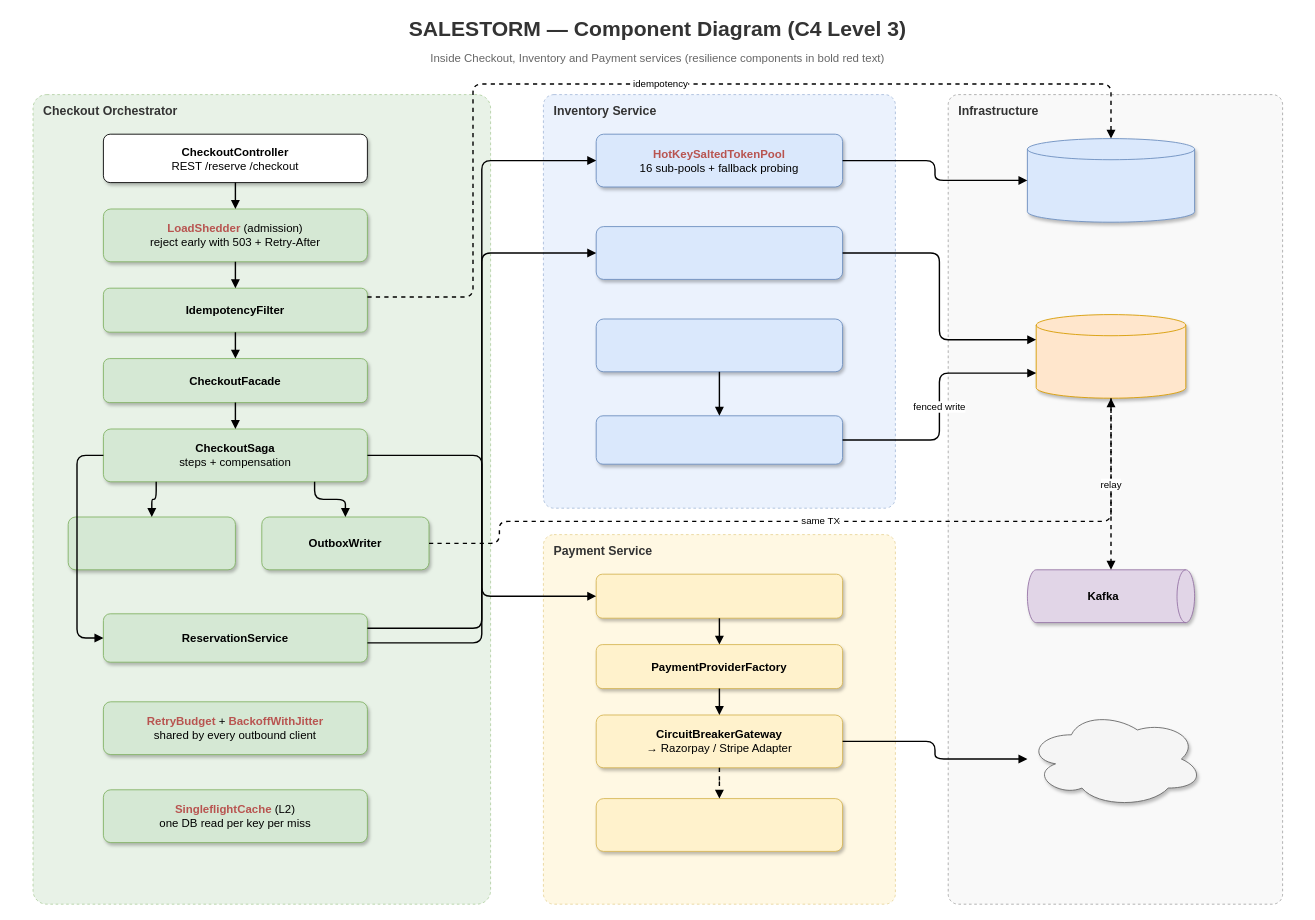
Image size: 1315x920. Some labels were removed from this diagram. The centre of each missing label's shape, as x and y in pixels:
"InventoryUnitRepository FOR UPDATE SKIP LOCKED" belongs at (x=720, y=254).
"LeaseManager → FencingToken" belongs at (x=720, y=440).
"Payment Gateway" belongs at (x=1116, y=760).
"PaymentService" belongs at (x=720, y=597).
"PhiAccrualDetector marks slow PSP endpoints suspect" belongs at (x=720, y=826).
"PostgreSQL lease · inbox" belongs at (x=1111, y=357).
"PricingStrategy FlashSale / Coupon" belongs at (x=152, y=544).
"Redis tokens:sku42#0..15" belongs at (x=1111, y=181).
"ReservationExpiryJob event-time TTL sweeper" belongs at (x=720, y=346).
